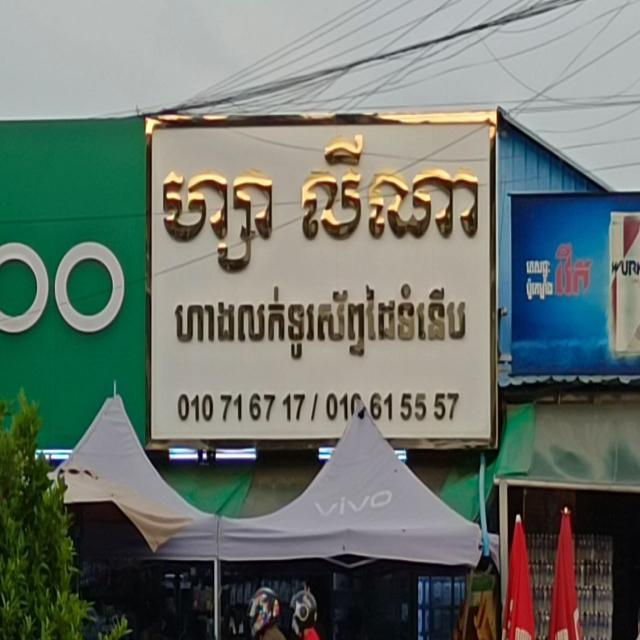1: (158, 128, 488, 279)
Yolov11kh: (172, 278, 469, 374)
